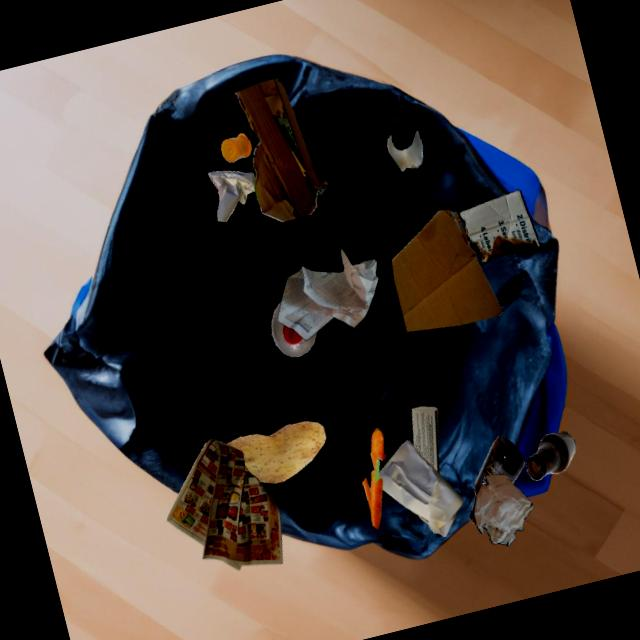biowaste: (226, 421, 326, 483), (362, 427, 385, 529)
cardboard: (391, 208, 502, 332), (235, 77, 329, 222), (459, 189, 540, 262)
glass: (469, 435, 525, 522), (526, 431, 575, 480), (387, 130, 423, 171)
paper: (166, 438, 282, 570), (277, 248, 378, 340), (378, 440, 463, 537), (473, 474, 533, 545), (208, 170, 255, 221), (411, 406, 439, 473)
plastic: (271, 301, 316, 356), (221, 133, 252, 162)
